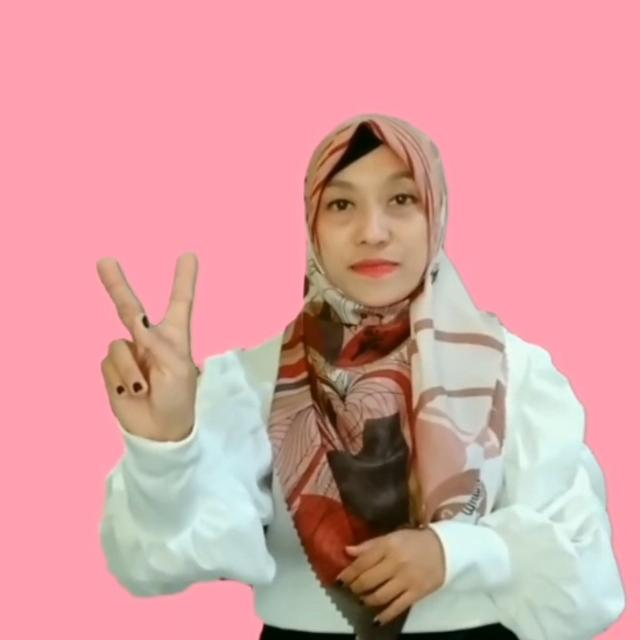K: (95, 253, 198, 433)
